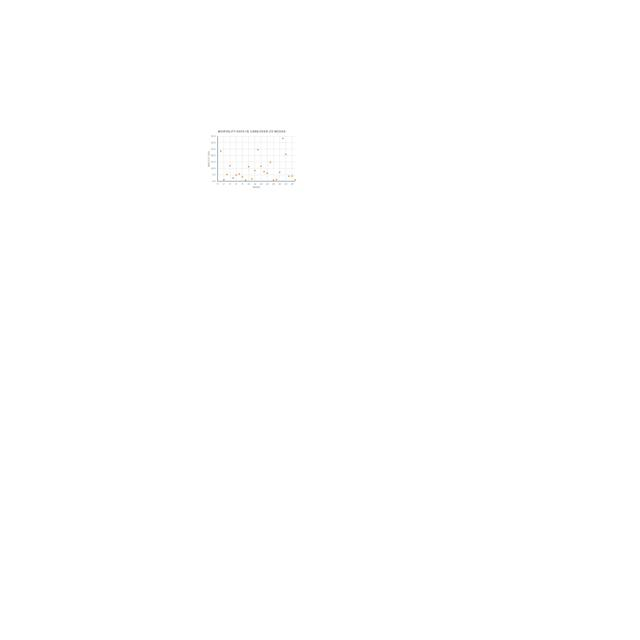Graph: (207, 128, 297, 190)
